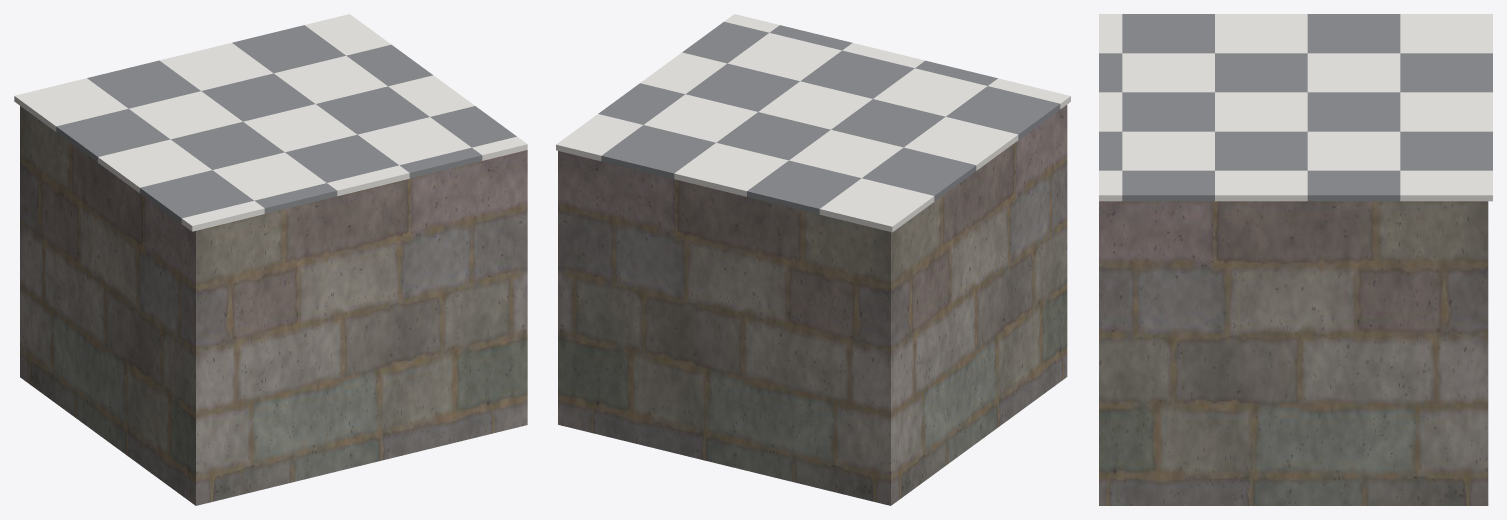
Rendered from floor_hall_g_e0_15_0_30.glb.
The picture shows the model from 3 angles, left to right: view 1: azimuth 30°, elevation 25°; view 2: azimuth 150°, elevation 25°; view 3: azimuth 270°, elevation 25°; orthographic projection. The views are drawn at different scales.
Parts seen in each view (by area): view 1: floor_hall_g_e0_15_0_30_plinth, floor_hall_g_e0_15_0_30_marble, floor_hall_g_e0_15_0_30_slate; view 2: floor_hall_g_e0_15_0_30_plinth, floor_hall_g_e0_15_0_30_marble, floor_hall_g_e0_15_0_30_slate; view 3: floor_hall_g_e0_15_0_30_plinth, floor_hall_g_e0_15_0_30_marble, floor_hall_g_e0_15_0_30_slate.
Part boxes in pixels (<box>): floor_hall_g_e0_15_0_30_plinth: <box>20,106,527,505</box>; floor_hall_g_e0_15_0_30_marble: <box>14,14,527,231</box>; floor_hall_g_e0_15_0_30_slate: <box>56,25,516,223</box>; floor_hall_g_e0_15_0_30_plinth: <box>558,105,1067,505</box>; floor_hall_g_e0_15_0_30_marble: <box>556,14,1070,232</box>; floor_hall_g_e0_15_0_30_slate: <box>598,21,1060,214</box>; floor_hall_g_e0_15_0_30_plinth: <box>1099,201,1488,505</box>; floor_hall_g_e0_15_0_30_marble: <box>1099,14,1492,201</box>; floor_hall_g_e0_15_0_30_slate: <box>1099,14,1492,201</box>.
Size of the model in its own units: 1.85 by 1.48 by 1.7.
3 materials, 1 textured.
